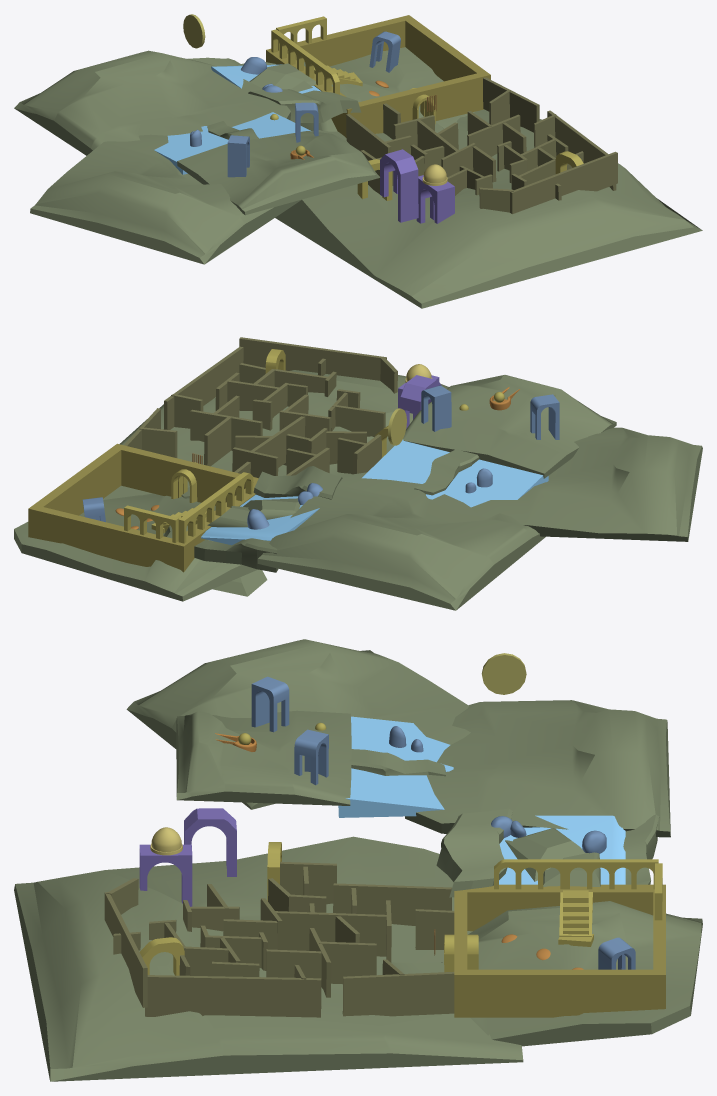
File: LevelDesign1.fbx
3 renders of one model, top to bottom at view 1: azimuth 30°, elevation 25°; view 2: azimuth 150°, elevation 25°; view 3: azimuth 270°, elevation 25°, orthographic. The views are drawn at different scales.
Parts seen in each view (by area): view 1: pCube23, pCube73, pCube20, pCube18, Wall, pCube24, pCube5, Pound1, pasted__polySurface26, pPlane4, pasted__polySurface23, pCube33 (+19 smaller); view 2: pCube20, pCube73, Wall, pCube18, pCube24, Pound1, pCube23, pCube5, pCube28, pPlane4, Pond2, pPlane5 (+30 smaller); view 3: pCube23, pCube20, pCube73, pCube24, Wall, pCube18, pCube28, Pound1, pCube33, pPlane4, pCube34, Pond2 (+27 smaller).
Boxes of the visible parts, x1,y1,x2,y2 form: pCube23: (275, 109, 702, 308); pCube73: (30, 134, 301, 264); pCube20: (14, 50, 290, 155); pCube18: (177, 131, 379, 215); Wall: (266, 15, 490, 137); pCube24: (300, 47, 475, 133); pCube5: (510, 151, 617, 214); Pound1: (154, 112, 311, 174); pasted__polySurface26: (380, 149, 418, 222); pPlane4: (248, 89, 361, 122); pasted__polySurface23: (416, 175, 454, 223); pCube33: (483, 77, 539, 132); pCube20: (257, 472, 545, 610); pCube73: (471, 427, 702, 541); Wall: (28, 443, 258, 572); pCube18: (403, 375, 616, 478); pCube24: (14, 493, 257, 601); Pound1: (362, 439, 548, 507); pCube23: (103, 370, 448, 499); pCube5: (239, 337, 386, 380); pCube28: (164, 346, 243, 429); pPlane4: (253, 466, 342, 499); Pond2: (201, 494, 319, 545); pPlane5: (194, 538, 278, 572); pCube23: (14, 836, 523, 1081); pCube20: (405, 700, 670, 837); pCube73: (126, 639, 470, 809); pCube24: (468, 901, 702, 1046); Wall: (454, 884, 665, 1017); pCube18: (176, 710, 351, 805); pCube28: (145, 975, 321, 1017); Pound1: (338, 716, 453, 817); pCube33: (342, 972, 454, 1016); pPlane4: (436, 808, 512, 897); pCube34: (333, 883, 451, 925); Pond2: (499, 815, 625, 884).
Bounding box in the file's own units: 1549 × 483 × 1299.
